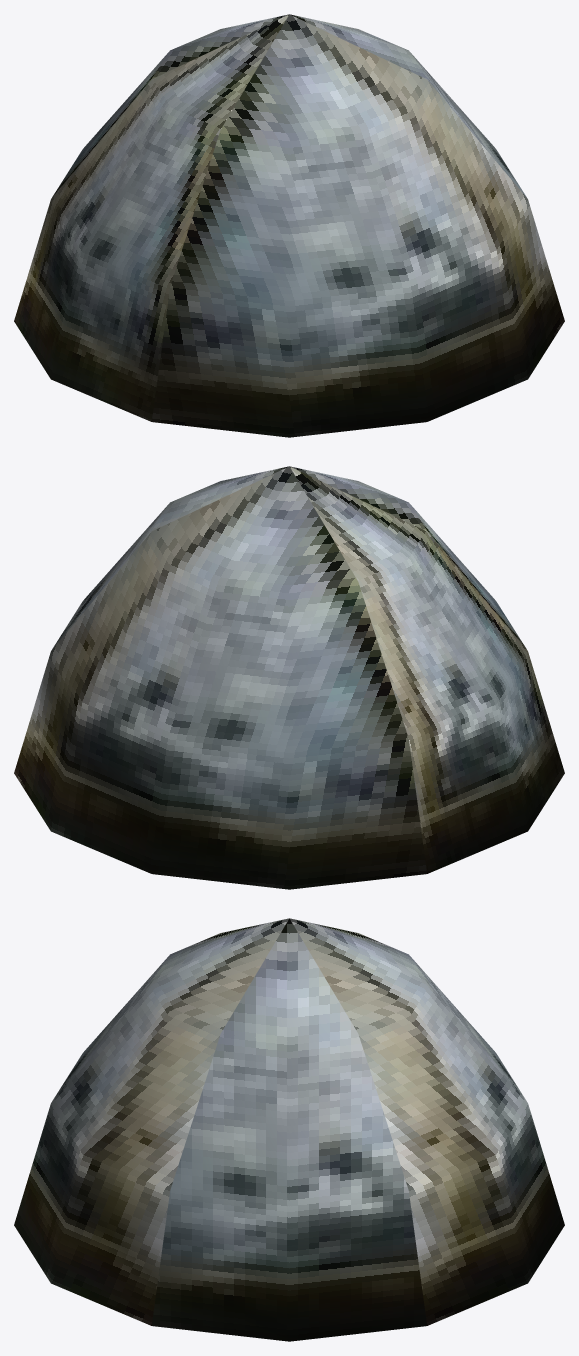
File: helmet.glb
3 views of the same model, one above another, from view 1: azimuth 30°, elevation 25°; view 2: azimuth 150°, elevation 25°; view 3: azimuth 270°, elevation 25° (orthographic).
Visible parts, largest first — view 1: helmet.ms3d.mo; view 2: helmet.ms3d.mo; view 3: helmet.ms3d.mo.
Boxes of the visible parts, left/top/right/bottom form: helmet.ms3d.mo: left=14, top=14, right=564, bottom=437; helmet.ms3d.mo: left=14, top=466, right=564, bottom=889; helmet.ms3d.mo: left=14, top=918, right=564, bottom=1341.
Bounding box in the file's own units: 19.14 × 11.77 × 19.14.
1 material, 1 textured.
